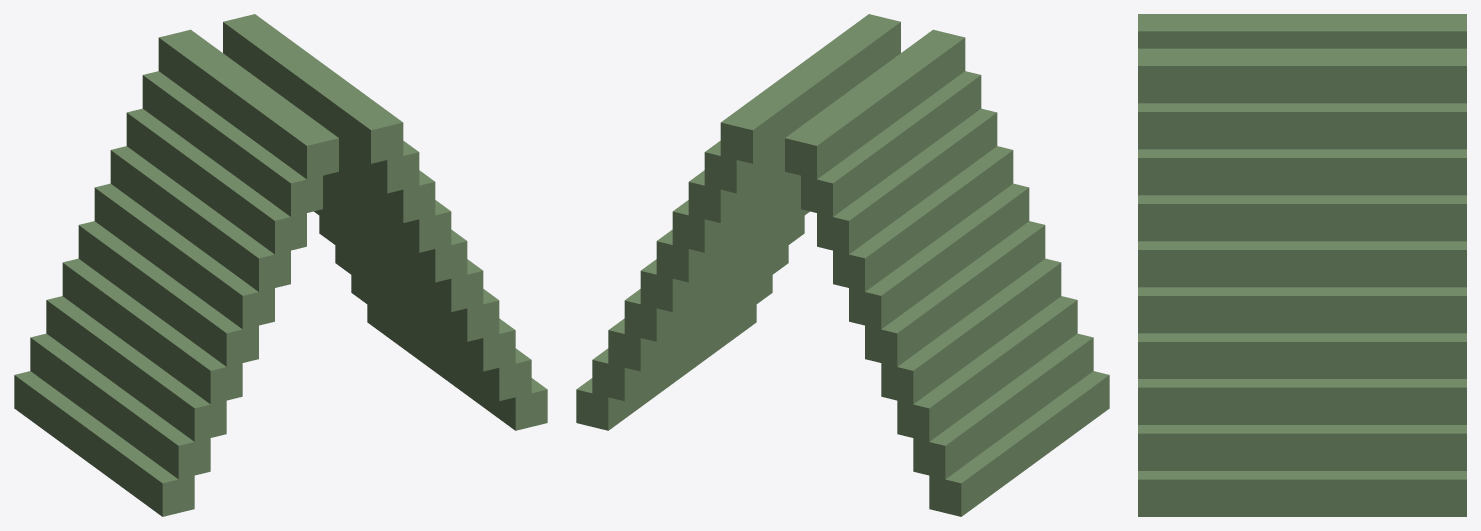
The model's file is gardening-18.glb.
The picture shows the model from 3 angles, left to right: view 1: azimuth 30°, elevation 25°; view 2: azimuth 150°, elevation 25°; view 3: azimuth 270°, elevation 25°; orthographic projection. The views are drawn at different scales.
Parts seen in each view (by area): view 1: Flower arch; view 2: Flower arch; view 3: Flower arch.
Part boxes in pixels (left/top/right/bottom): Flower arch: left=14, top=14, right=547, bottom=516; Flower arch: left=576, top=14, right=1109, bottom=516; Flower arch: left=1138, top=14, right=1466, bottom=516.
Size of the model in its own units: 1.92 by 1.6 by 1.28.
